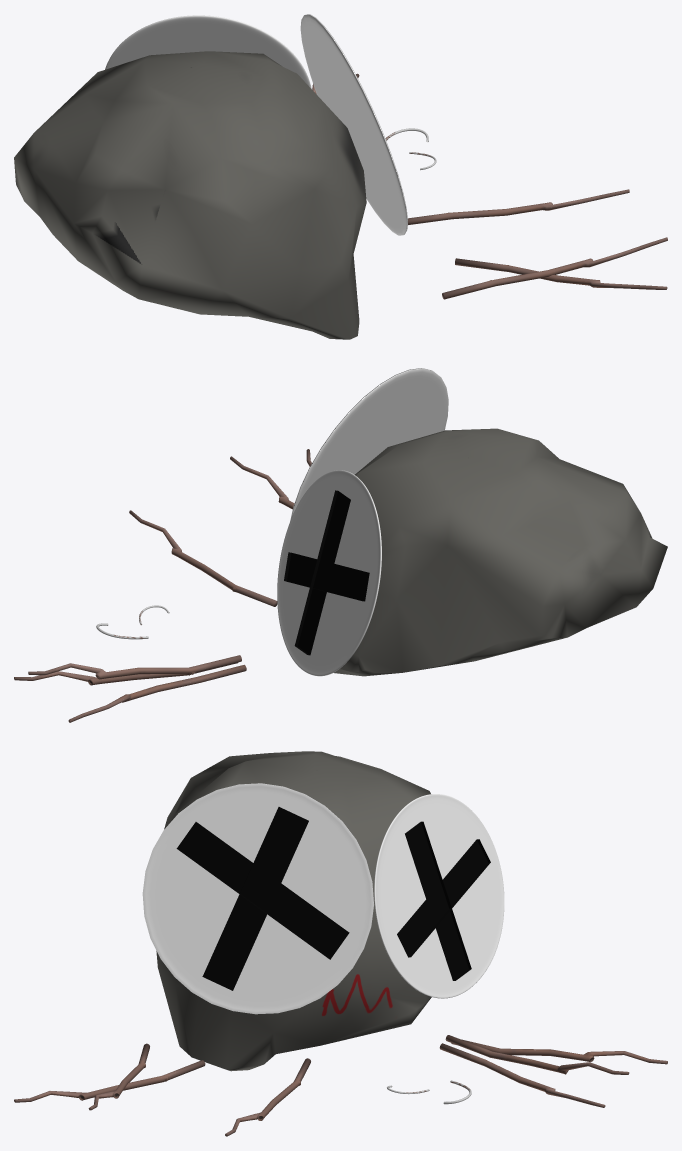
File: Petrock_Dead_V1 (2).fbx
The picture shows the model from 3 angles, top to bottom: view 1: azimuth 30°, elevation 25°; view 2: azimuth 150°, elevation 25°; view 3: azimuth 270°, elevation 25°; orthographic projection. The views are drawn at different scales.
Parts seen in each view (by area): view 1: PetRock_mesh.002, Bakhlid_L.002, Bakhlid_R.002, NurbsPath.006; view 2: PetRock_mesh.002, Bakhlid_R.002, Bakhlid_L.002, NurbsPath.006, Plane.003; view 3: Bakhlid_L.002, PetRock_mesh.002, Bakhlid_R.002, Plane.001, NurbsPath.006, Plane.003.
Part boxes in pixels (x1,y1,x2,y2): PetRock_mesh.002: (14, 51, 366, 339); Bakhlid_L.002: (300, 14, 407, 235); Bakhlid_R.002: (105, 15, 311, 88); NurbsPath.006: (312, 73, 667, 299); PetRock_mesh.002: (334, 428, 667, 676); Bakhlid_R.002: (277, 470, 381, 676); Bakhlid_L.002: (290, 368, 448, 520); NurbsPath.006: (14, 449, 311, 722); Plane.003: (284, 490, 369, 655); Bakhlid_L.002: (142, 783, 373, 1014); PetRock_mesh.002: (156, 751, 431, 1071); Bakhlid_R.002: (374, 794, 504, 998); Plane.001: (176, 807, 349, 990); NurbsPath.006: (14, 1035, 667, 1136); Plane.003: (397, 821, 490, 980).
Size of the model in its own units: 622 by 319 by 670.
4 materials, 2 textured.
